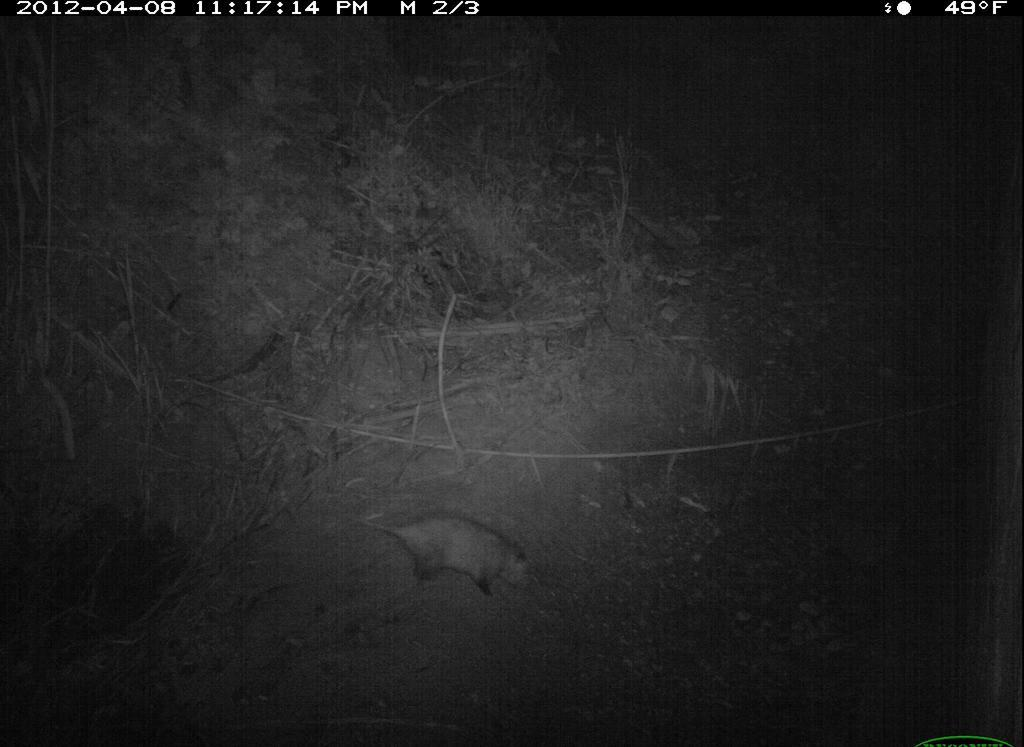opossum: (333, 491, 550, 601)
